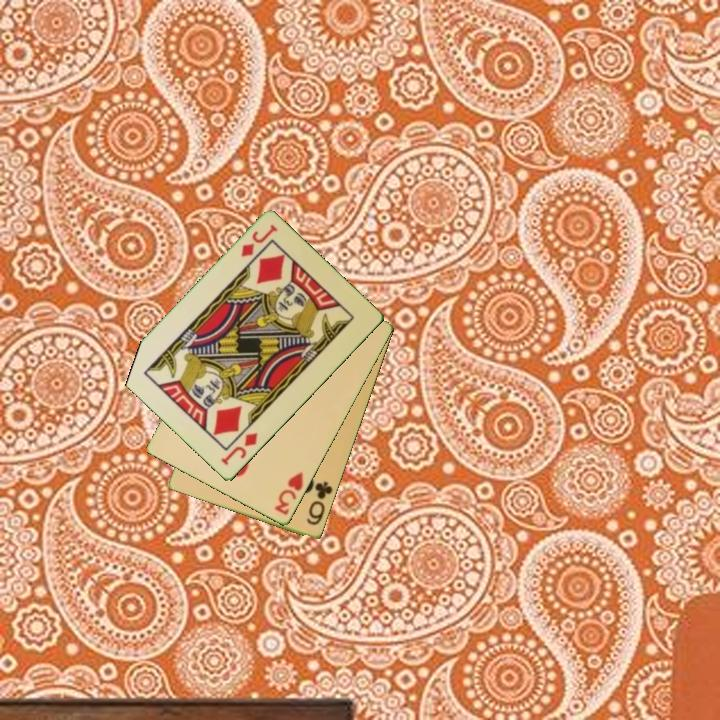3h: (271, 469, 306, 519)
6c: (303, 478, 336, 529)
Jd: (217, 429, 261, 469), (237, 221, 281, 260)
